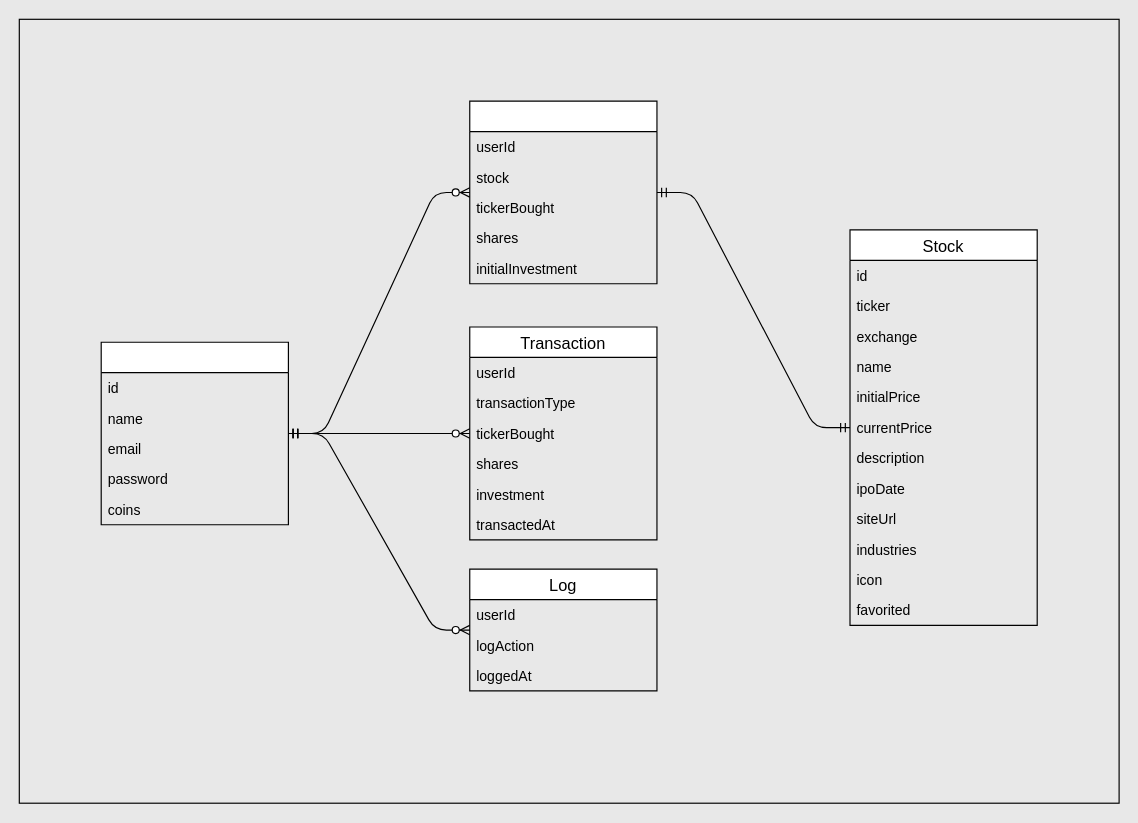
The diagram is 1138 pixels wide and 823 high, and some of its shapes have lost their labels. The shapes that lost their labels are listed below. From the top down, each one's box as (x1, y1, x2, y2) in pixels, then its label:
(469, 100, 657, 284): Purchased Stock
(100, 341, 288, 525): User
